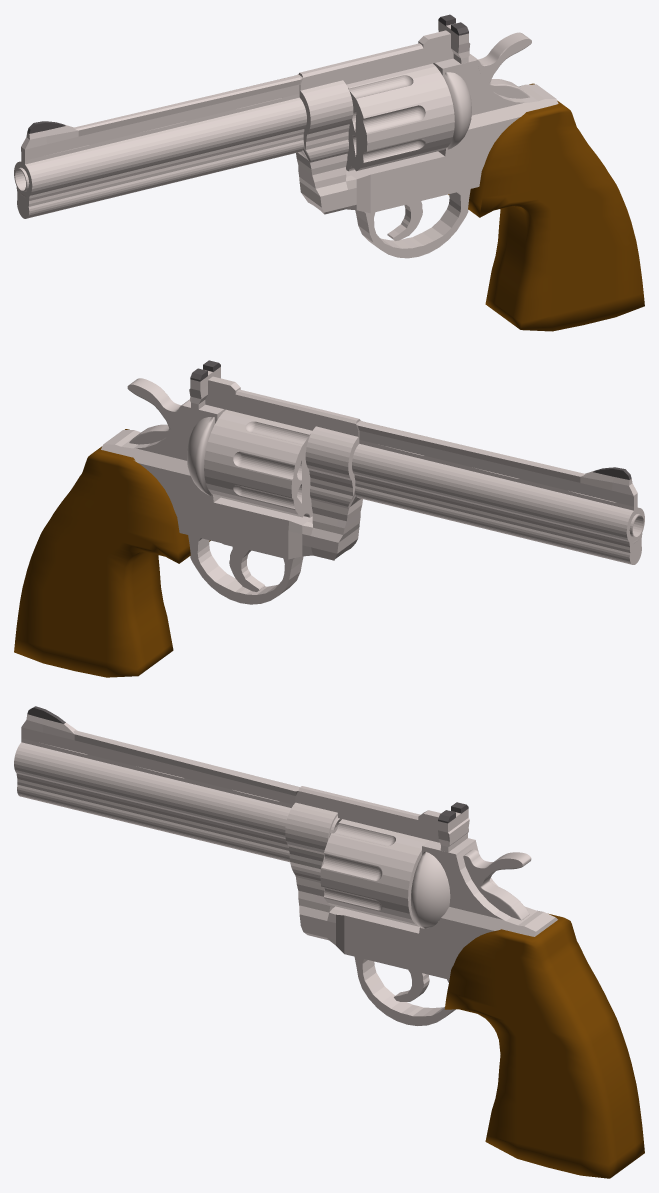
File: Revolver.fbx
3 renders of one model, top to bottom at view 1: azimuth 30°, elevation 25°; view 2: azimuth 150°, elevation 25°; view 3: azimuth 330°, elevation 25°, orthographic.
Visible parts, largest first — view 1: Revolver_Base, Revolver_cylinder_reload, Revolver_Hammer, Revolver_Trigger; view 2: Revolver_Base, Revolver_cylinder_reload, Revolver_Hammer, Revolver_Trigger; view 3: Revolver_Base, Revolver_cylinder_reload, Revolver_Hammer.
Boxes of the visible parts, x1,y1,x2,y2 form: Revolver_Base: (14, 14, 644, 331); Revolver_cylinder_reload: (346, 63, 454, 171); Revolver_Hammer: (469, 32, 531, 98); Revolver_Trigger: (387, 201, 422, 240); Revolver_Base: (14, 360, 644, 677); Revolver_cylinder_reload: (204, 409, 312, 517); Revolver_Hammer: (127, 378, 189, 444); Revolver_Trigger: (222, 543, 264, 591); Revolver_Base: (14, 706, 644, 1178); Revolver_cylinder_reload: (320, 819, 429, 926); Revolver_Hammer: (463, 849, 531, 920).
Bounding box in the file's own units: 52.23 × 26.18 × 7.13.
